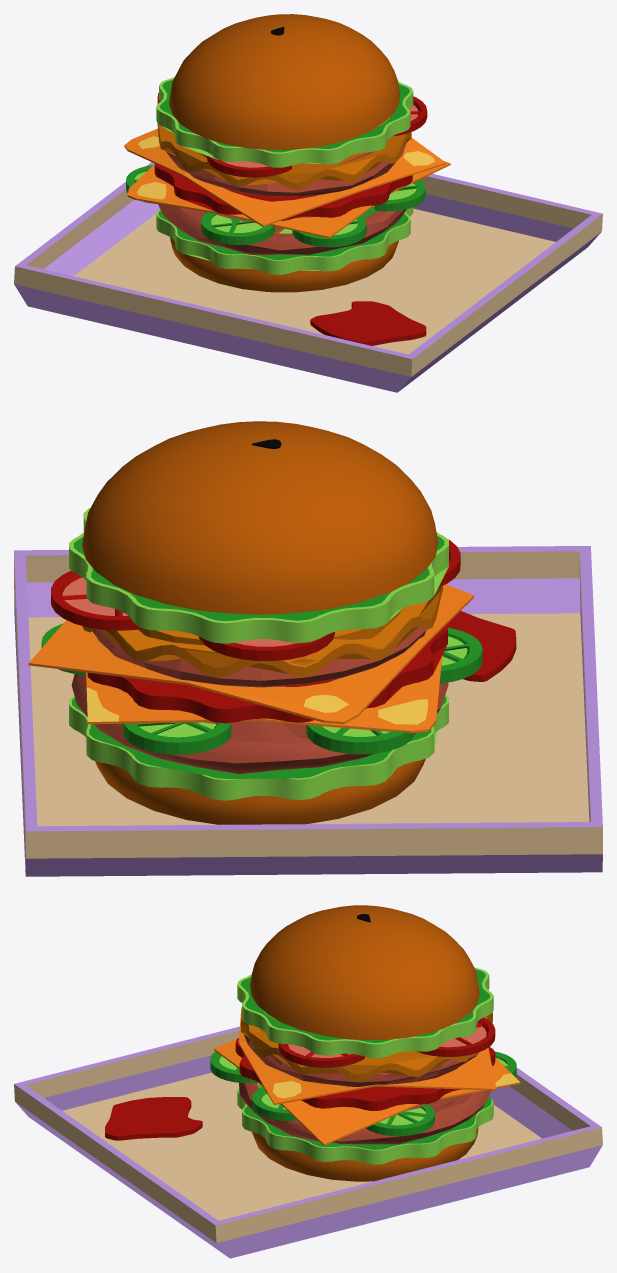
The model's file is Burger and its plate.fbx.
3 renders of one model, top to bottom at view 1: azimuth 30°, elevation 25°; view 2: azimuth 150°, elevation 25°; view 3: azimuth 270°, elevation 25°, orthographic. The views are drawn at different scales.
Parts seen in each view (by area): view 1: Burger Plate, Upper Bun, Burger Plate Outer 3, Cabbage, Burger plate inner 1, Cabbage 2, Burger Outer 1, Cheese 1.001, Mustard, Lower bun, Ketchup, Meat 2 (+8 smaller); view 2: Burger Plate, Upper Bun, Burger Plate Outer 3, Cabbage, Burger Outer 1, Cabbage 2, Cheese 1.001, Lower bun, Mustard, Meat 2, Ketchup.001, Burger plate inner 1 (+12 smaller); view 3: Burger Plate, Upper Bun, Burger Plate Outer 3, Cabbage, Cabbage 2, Burger Outer 1, Burger plate inner 1, Cheese 1.001, Lower bun, Cheese 2.001, Meat 2, Ketchup (+8 smaller).
Boxes of the visible parts, left/top/right/bottom form: Burger Plate: left=14, top=176, right=602, bottom=376; Upper Bun: left=169, top=14, right=399, bottom=149; Burger Plate Outer 3: left=14, top=232, right=600, bottom=392; Cabbage: left=156, top=77, right=413, bottom=167; Burger plate inner 1: left=43, top=194, right=573, bottom=276; Cabbage 2: left=156, top=205, right=413, bottom=274; Burger Outer 1: left=15, top=162, right=602, bottom=358; Cheese 1.001: left=124, top=128, right=445, bottom=226; Mustard: left=157, top=124, right=411, bottom=190; Lower bun: left=169, top=228, right=398, bottom=292; Ketchup: left=310, top=301, right=426, bottom=345; Meat 2: left=158, top=204, right=406, bottom=255; Burger Plate: left=14, top=551, right=602, bottom=858; Upper Bun: left=82, top=421, right=438, bottom=614; Burger Plate Outer 3: left=14, top=581, right=602, bottom=876; Cabbage: left=69, top=508, right=448, bottom=643; Burger Outer 1: left=14, top=546, right=602, bottom=831; Cabbage 2: left=69, top=694, right=448, bottom=800; Cheese 1.001: left=28, top=584, right=473, bottom=724; Lower bun: left=95, top=758, right=425, bottom=824; Mustard: left=82, top=584, right=442, bottom=677; Meat 2: left=71, top=674, right=448, bottom=773; Ketchup.001: left=87, top=624, right=447, bottom=723; Burger plate inner 1: left=27, top=578, right=590, bottom=821; Burger Plate: left=14, top=1030, right=602, bottom=1243; Upper Bun: left=250, top=905, right=479, bottom=1039; Burger Plate Outer 3: left=15, top=1102, right=602, bottom=1258; Cabbage: left=237, top=967, right=493, bottom=1058; Cabbage 2: left=237, top=1083, right=493, bottom=1164; Burger Outer 1: left=14, top=1026, right=601, bottom=1225; Burger plate inner 1: left=44, top=1055, right=572, bottom=1138; Cheese 1.001: left=238, top=1009, right=496, bottom=1104; Lower bun: left=252, top=1127, right=478, bottom=1181; Cheese 2.001: left=214, top=1039, right=520, bottom=1145; Meat 2: left=239, top=1082, right=491, bottom=1144; Ketchup: left=105, top=1097, right=202, bottom=1140.
Size of the model in its own units: 2080 by 905 by 2156.
